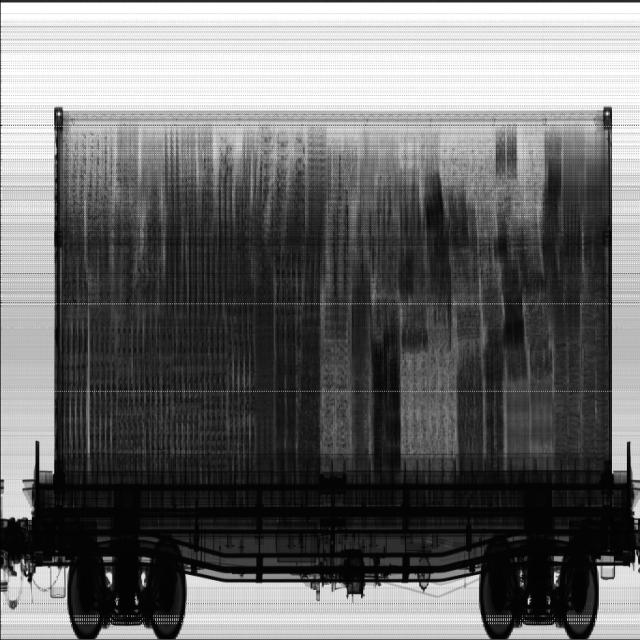office supplies: (285, 228, 394, 315)
textiles: (28, 328, 130, 401)
